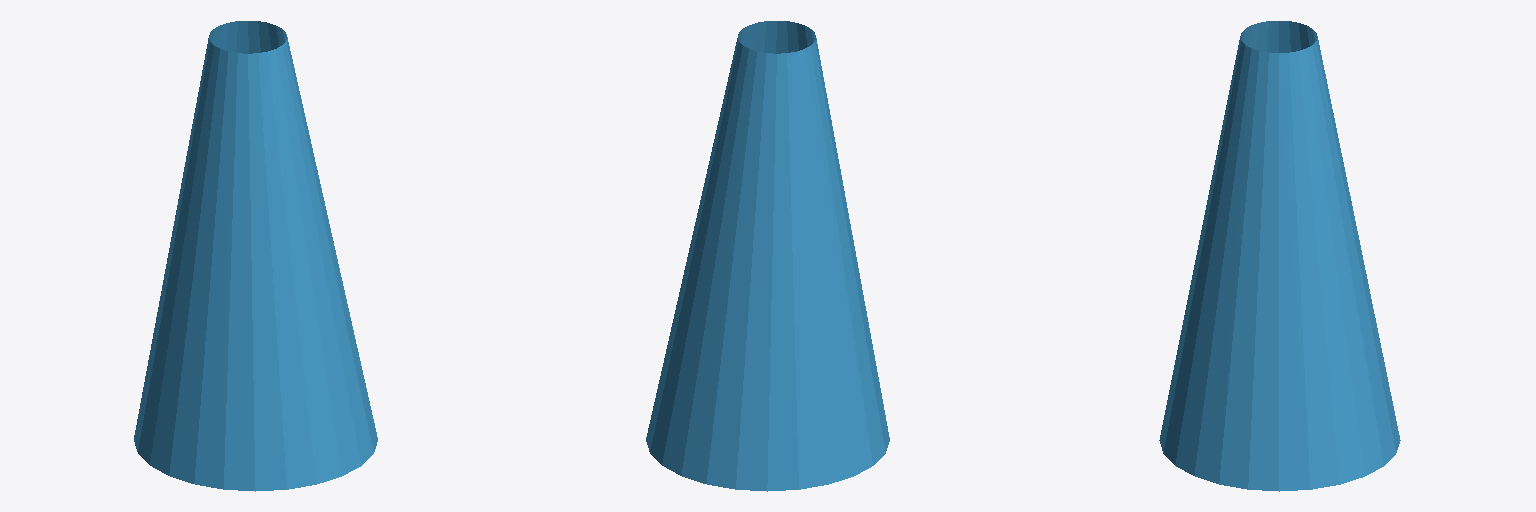
URDF robot description (partnet_20c5dff3b09282035b76194468418a0e):
<?xml version="1.0" ?>
<robot name="partnet_20c5dff3b09282035b76194468418a0e">
	<link name="base"/>
	<link name="link_0">
        <contact>
          <lateral_friction value="1"/>
          <rolling_friction value="0.0001"/>
          <inertia_scaling value="3.0"/>
        </contact>
        <inertial>
          <origin rpy="0 0 0" xyz="0 0 0"/>
           <mass value="0.2"/>
           <inertia ixx="1" ixy="0" ixz="0" iyy="1" iyz="0" izz="1"/>
        </inertial>
		<visual name="body-5">
			<origin xyz="0 0 0"/>
			<geometry>
				<mesh filename="textured_objs/new-2.obj"/>
			</geometry>
		</visual>
		<visual name="body-5">
			<origin xyz="0 0 0"/>
			<geometry>
				<mesh filename="textured_objs/new-1.obj"/>
			</geometry>
		</visual>
		<collision>
			<origin xyz="0 0 0"/>
			<geometry>
				<mesh filename="textured_objs/new-2.obj"/>
			</geometry>
		</collision>
		<collision>
			<origin xyz="0 0 0"/>
			<geometry>
				<mesh filename="textured_objs/new-1.obj"/>
			</geometry>
		</collision>
	</link>
	<joint name="joint_0" type="fixed">
		<origin rpy="1.570796326794897 0 -1.570796326794897" xyz="0 0 0"/>
		<child link="link_0"/>
		<parent link="base"/>
	</joint>
	<!--link name="link_1">
		<visual name="lid-6">
			<origin xyz="-0.003906339939189927 0 -0.004880000000000002"/>
			<geometry>
				<mesh filename="textured_objs/new-0.obj"/>
			</geometry>
		</visual>
		<collision>
			<origin xyz="-0.003906339939189927 0 -0.004880000000000002"/>
			<geometry>
				<mesh filename="textured_objs/new-0.obj"/>
			</geometry>
		</collision>
	</link>
	<joint name="joint_1" type="prismatic">
		<origin xyz="0.003906339939189927 0 0.004880000000000002"/>
		<axis xyz="0 1 0"/>
		<child link="link_1"/>
		<parent link="link_0"/>
		<limit lower="-0.20399999999999996" upper="0"/>
	</joint-->
</robot>

--- Facts derived from the render (not from the file) ---
The picture shows the robot from 3 angles, left to right: view 1: azimuth 30°, elevation 25°; view 2: azimuth 150°, elevation 25°; view 3: azimuth 270°, elevation 25°; orthographic projection.
Robot: partnet_20c5dff3b09282035b76194468418a0e — 2 links, 1 joints (1 fixed); root link base; default pose: every joint at zero.
Visible links, largest first — view 1: link_0; view 2: link_0; view 3: link_0.
Link boxes in pixels (bbox=[...]): link_0: bbox=[134, 21, 377, 491]; link_0: bbox=[646, 21, 889, 491]; link_0: bbox=[1159, 21, 1400, 491].
Bounding box of the posed robot: 0.7107 × 0.7107 × 1.3 m (x, y, z).
Meshes: 2 distinct files referenced, 1 mesh visuals loaded (1 OBJ); not drawn: 1 (reference not matched to a file when rendering).